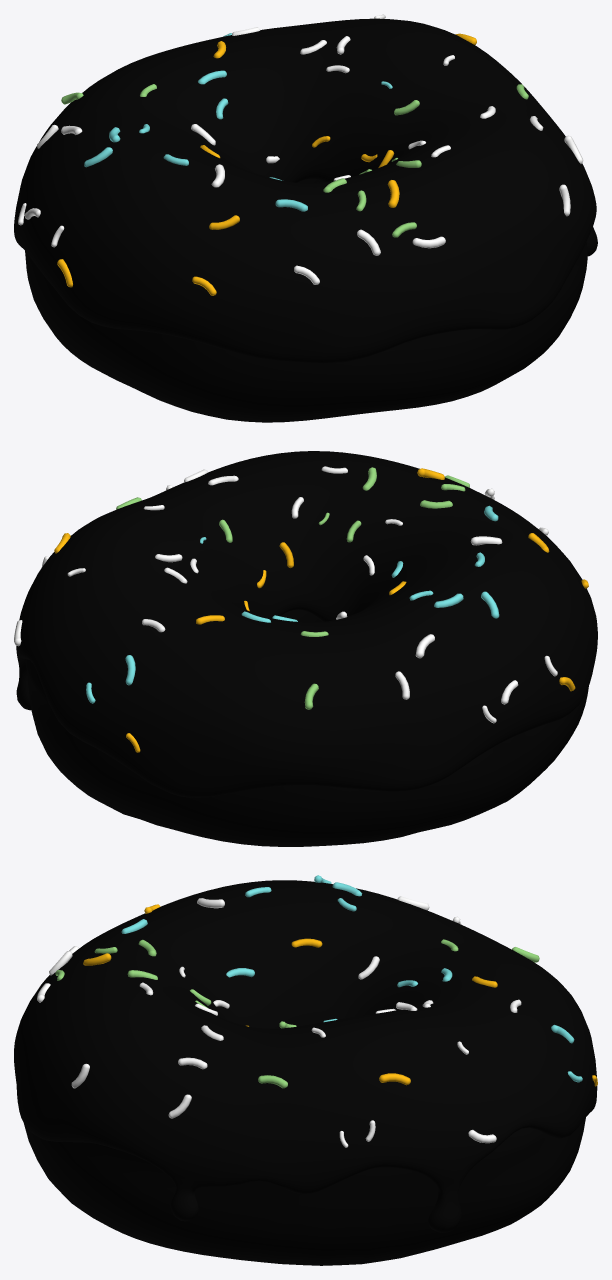
The model's file is donut.glb.
3 renders of one model, top to bottom at view 1: azimuth 30°, elevation 25°; view 2: azimuth 150°, elevation 25°; view 3: azimuth 270°, elevation 25°, orthographic. The views are drawn at different scales.
Visible parts, largest first — view 1: ICING, donut, Sprinkles 4, Sprinkles 1, Sprinkles 3, Sprinkles 2; view 2: ICING, donut, Sprinkles 4, Sprinkles 3, Sprinkles 2, Sprinkles 1; view 3: ICING, donut, Sprinkles 4, Sprinkles 3, Sprinkles 2, Sprinkles 1.
Part boxes in pixels (left/top/right/bottom): ICING: left=14, top=18, right=597, bottom=363; donut: left=25, top=179, right=587, bottom=422; Sprinkles 4: left=18, top=14, right=583, bottom=284; Sprinkles 1: left=57, top=33, right=476, bottom=295; Sprinkles 3: left=84, top=33, right=392, bottom=211; Sprinkles 2: left=61, top=84, right=528, bottom=237; ICING: left=16, top=451, right=597, bottom=797; donut: left=25, top=609, right=588, bottom=846; Sprinkles 4: left=14, top=466, right=557, bottom=723; Sprinkles 3: left=86, top=505, right=499, bottom=703; Sprinkles 2: left=116, top=467, right=469, bottom=709; Sprinkles 1: left=54, top=468, right=588, bottom=752; ICING: left=14, top=880, right=597, bottom=1232; donut: left=24, top=1117, right=585, bottom=1265; Sprinkles 4: left=37, top=896, right=521, bottom=1147; Sprinkles 3: left=121, top=875, right=582, bottom=1082; Sprinkles 2: left=55, top=939, right=539, bottom=1088; Sprinkles 1: left=83, top=904, right=597, bottom=1086.
Bounding box in the file's own units: 0.1502 × 0.0672 × 0.1559.
6 materials, 2 textured.
